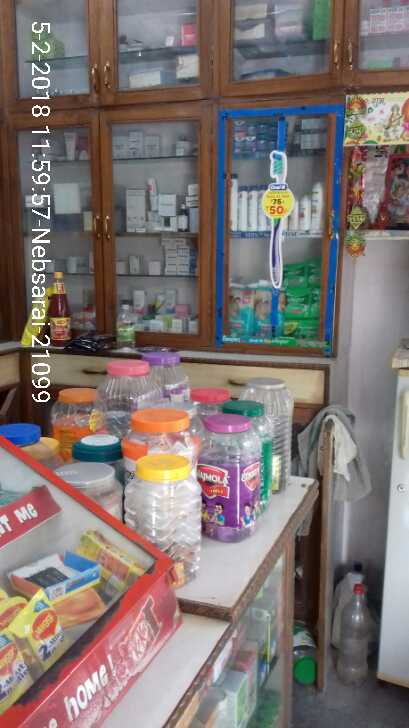vicks: (231, 113, 280, 157)
